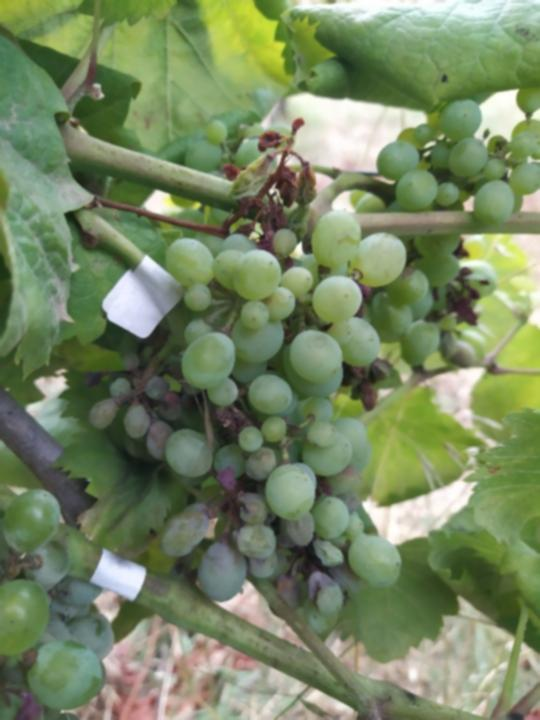grape: (86, 115, 414, 628), (355, 84, 539, 368)
